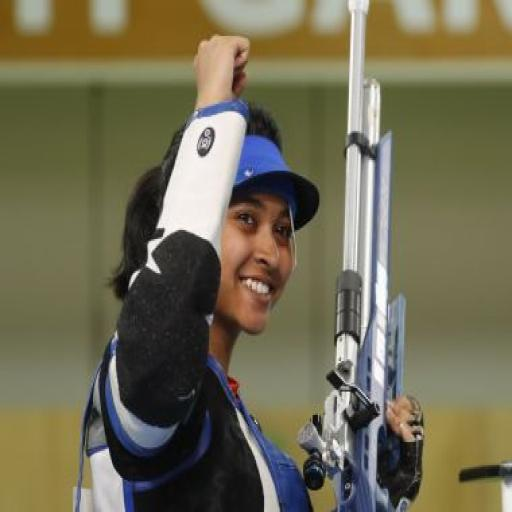shooting: (72, 31, 428, 510)
